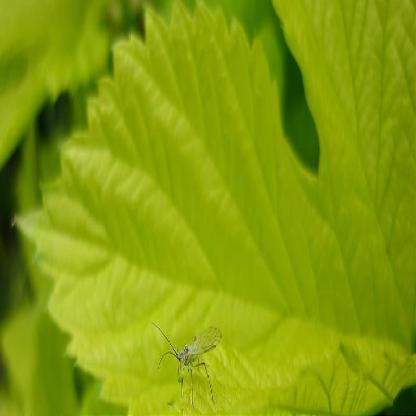aphid: (154, 312, 224, 404)
